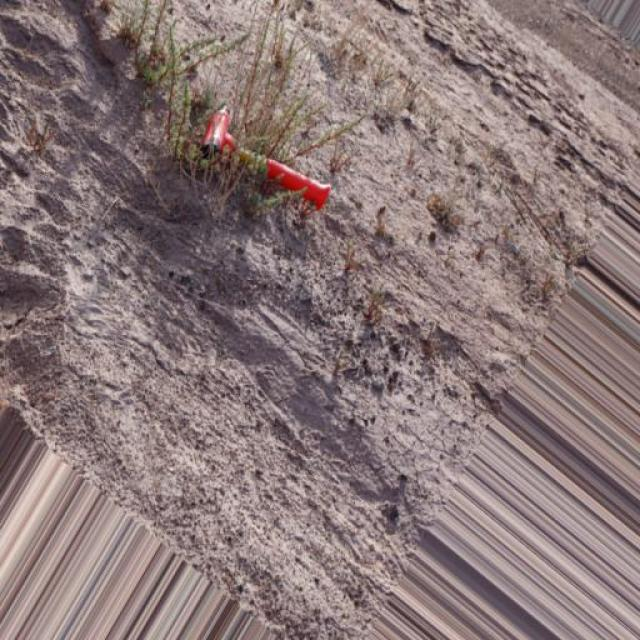mallet: (198, 104, 332, 211)
